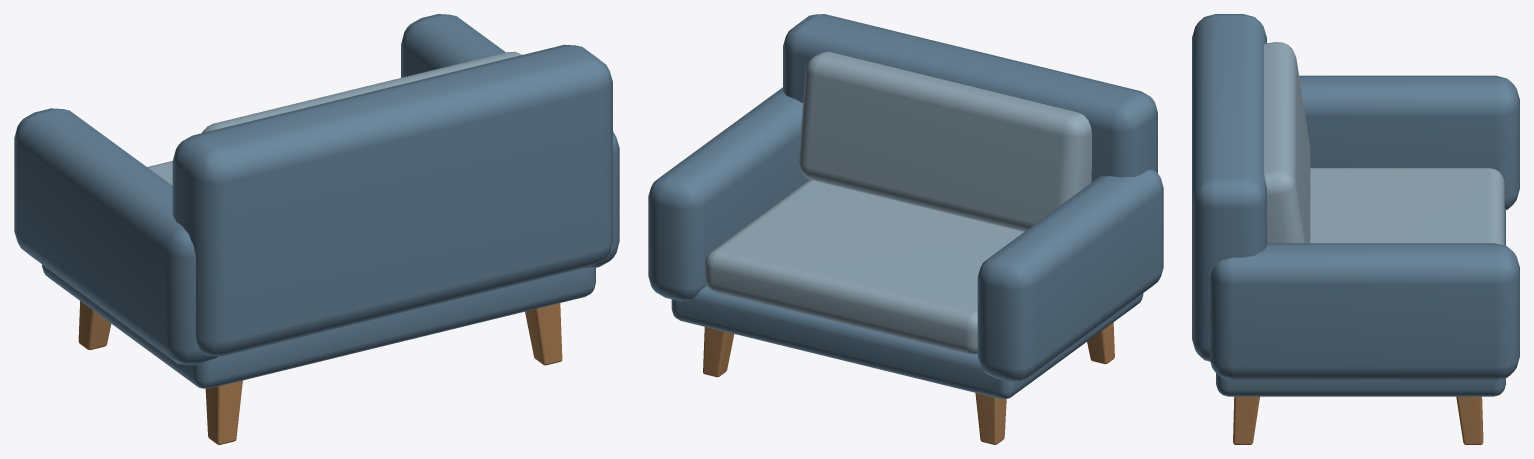
Rendered from dorm-single-sofa-v1.glb.
3 renders of one model, left to right at view 1: azimuth 30°, elevation 25°; view 2: azimuth 150°, elevation 25°; view 3: azimuth 270°, elevation 25°, orthographic. The views are drawn at different scales.
Parts seen in each view (by area): view 1: dorm_single_sofa_v1; view 2: dorm_single_sofa_v1; view 3: dorm_single_sofa_v1.
Part boxes in pixels (left/top/right/bottom): dorm_single_sofa_v1: left=14, top=14, right=619, bottom=444; dorm_single_sofa_v1: left=648, top=14, right=1163, bottom=444; dorm_single_sofa_v1: left=1192, top=14, right=1519, bottom=444.
Size of the model in its own units: 1.1 by 0.72 by 0.78.
